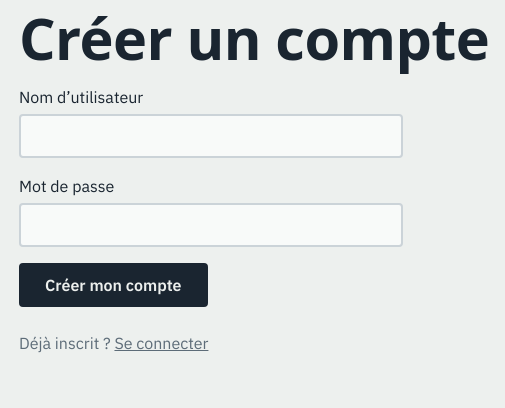
Test case: AuthPage (register) › reports a taken username
Type "Taken" into the field labelled "Nom d’utilisateur" at coordinates (211, 136), box [19,114,403,158]
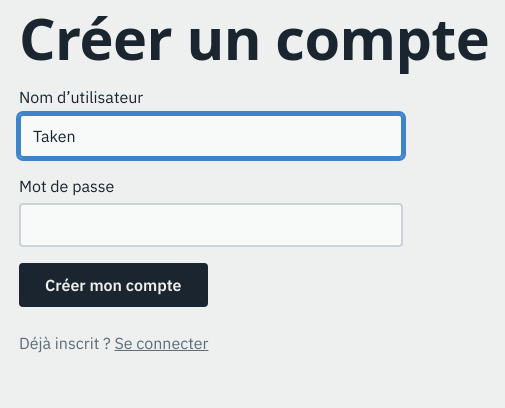
Type "long-enough-pw" into the password field labelled "Mot de passe" at coordinates (211, 225), box [19,203,403,247]
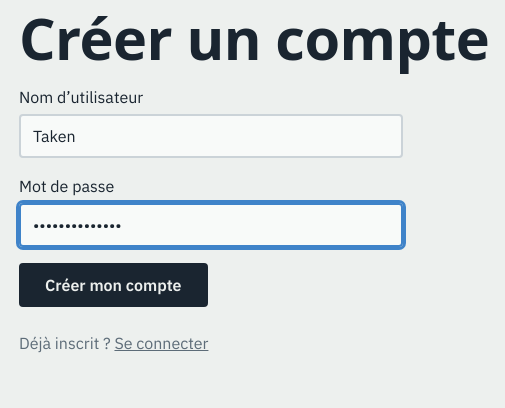
Click the button "Créer mon compte" at coordinates (113, 285), box [19,263,208,307]
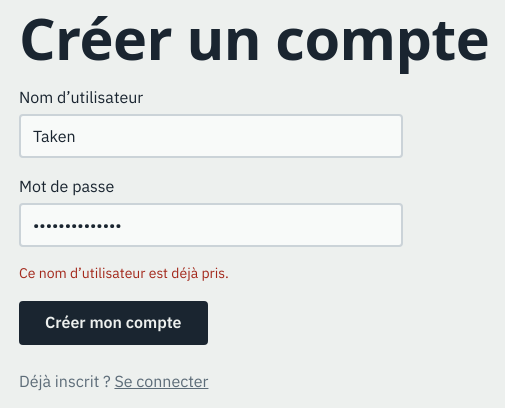
Expected: the message shows "déjà pris", [19,264,229,282]
